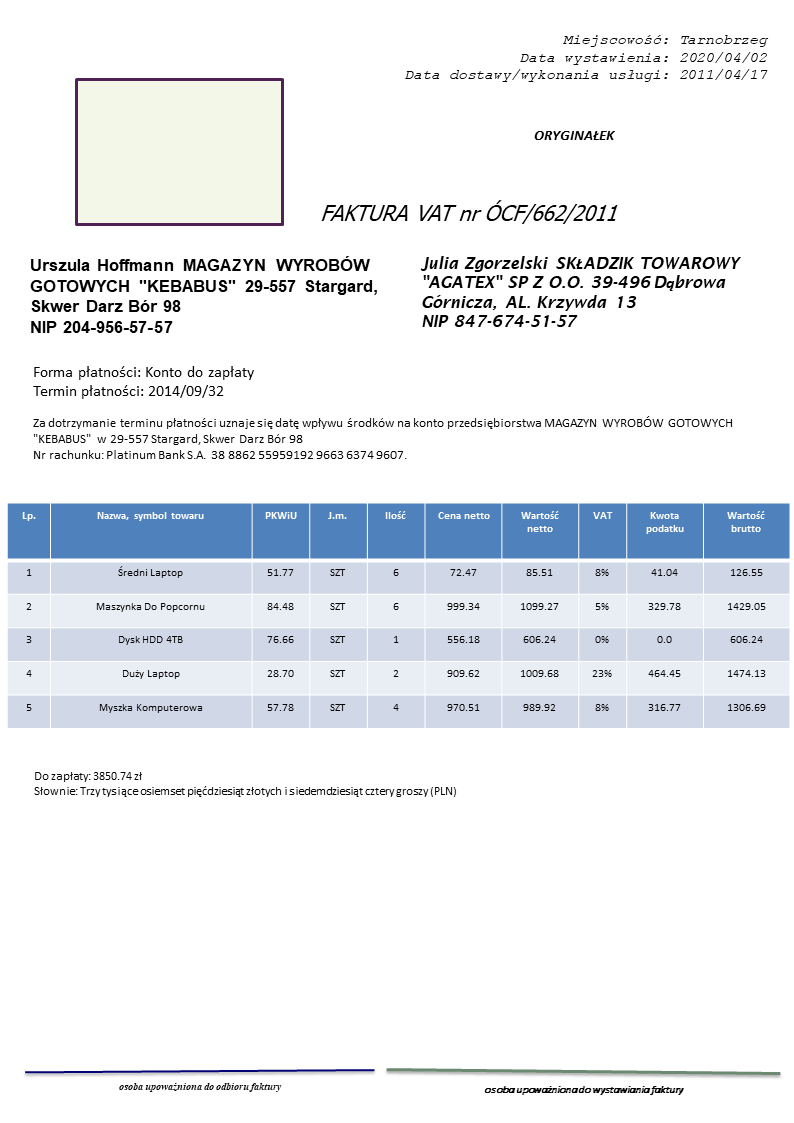Table: (6, 501, 792, 729)
TextBox: (29, 415, 737, 462), (25, 254, 381, 335), (417, 252, 747, 330), (401, 30, 769, 84), (30, 765, 459, 801), (29, 361, 257, 401), (317, 197, 620, 225), (481, 1082, 685, 1099), (115, 1078, 283, 1097), (530, 127, 615, 145)
